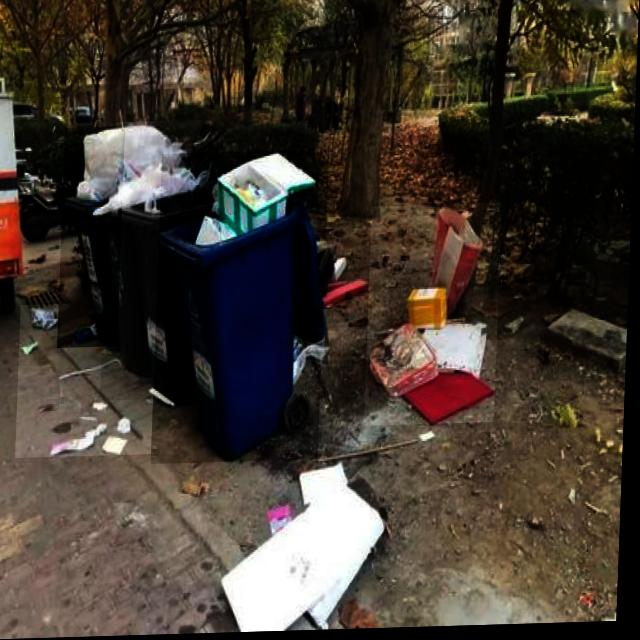garbage: (367, 206, 504, 428), (226, 462, 388, 632), (19, 301, 179, 458)
overflow: (154, 151, 331, 465), (103, 122, 202, 402), (60, 127, 127, 348)
